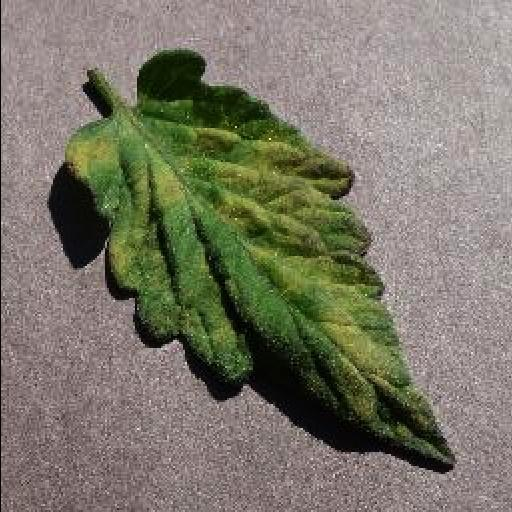disease_tomato: (61, 48, 459, 468)
